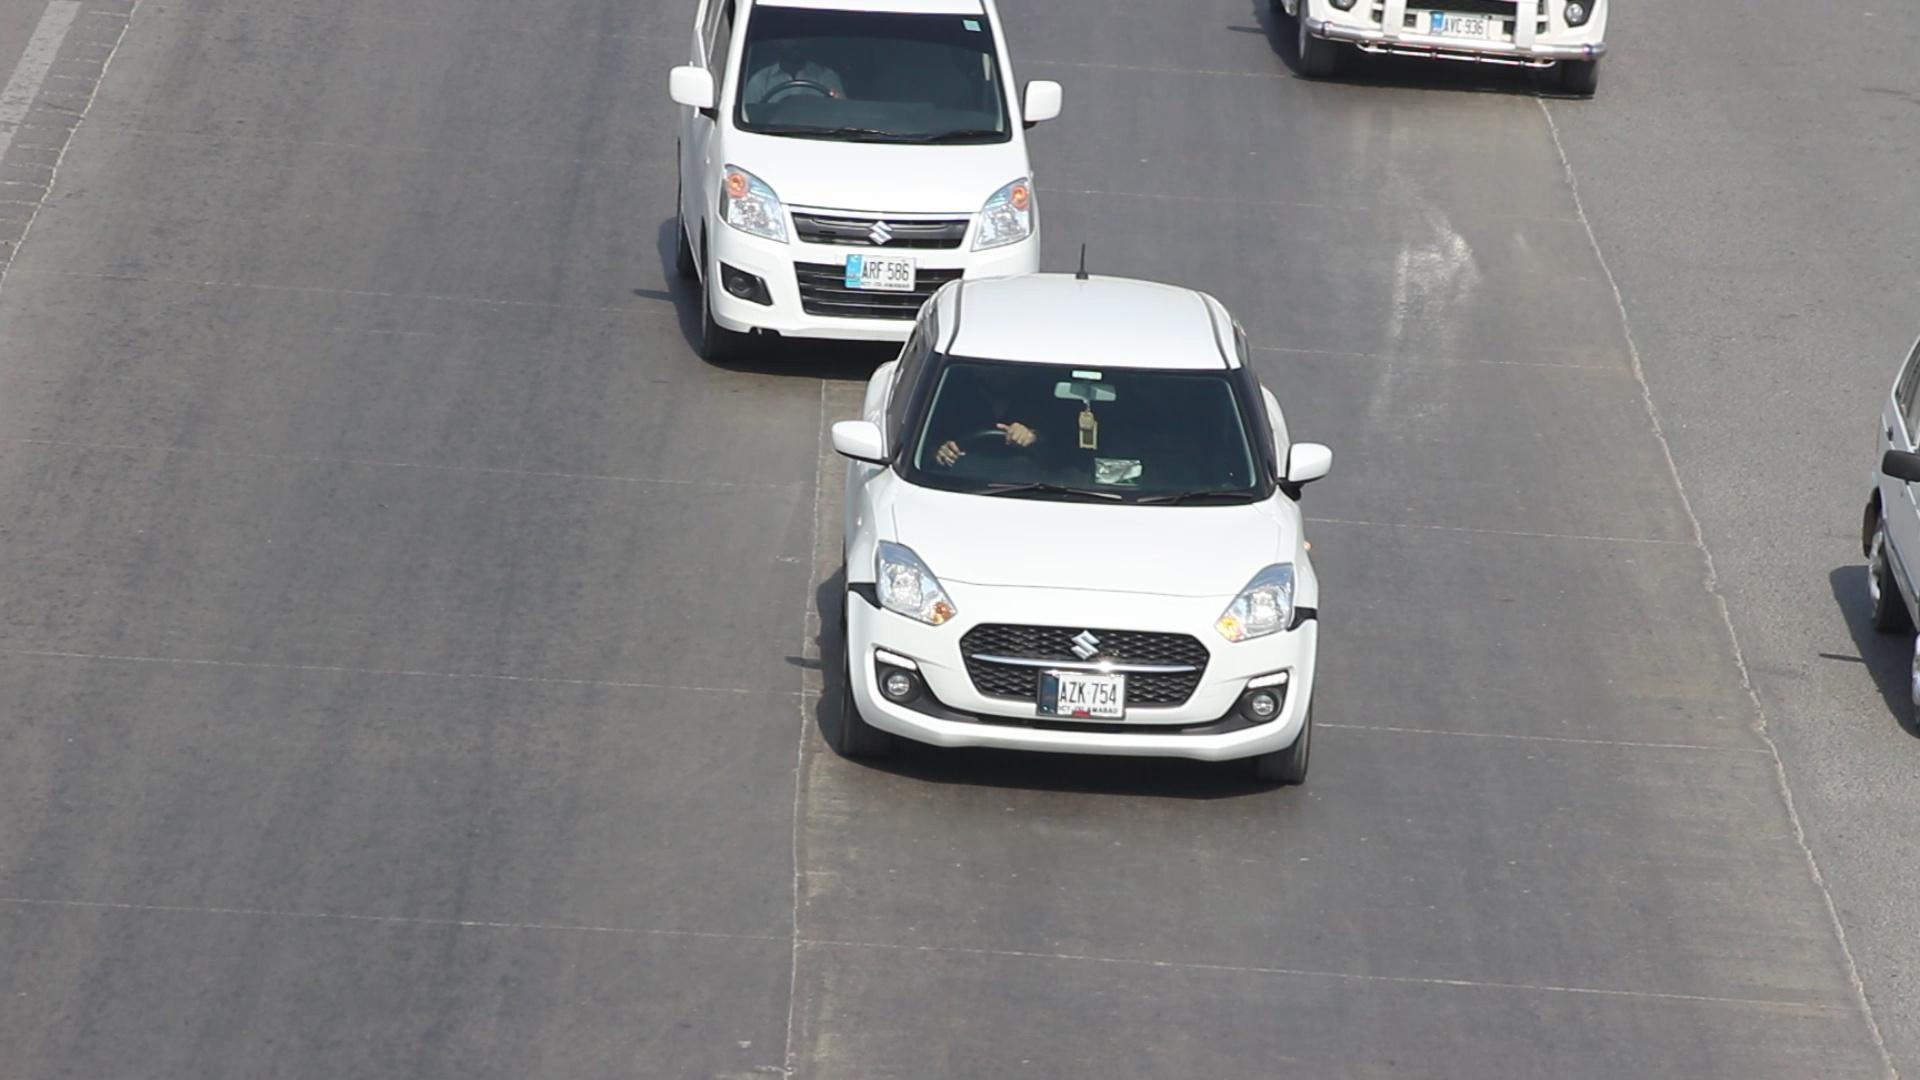windshield: (897, 334, 1294, 510), (724, 0, 1034, 153)
